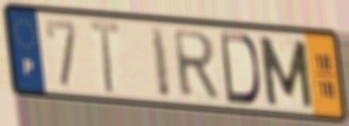7: (43, 17, 79, 91)
D: (218, 29, 263, 107)
I: (147, 23, 173, 101)
M: (256, 33, 316, 111)
R: (170, 28, 222, 101)
T: (87, 17, 122, 96)
